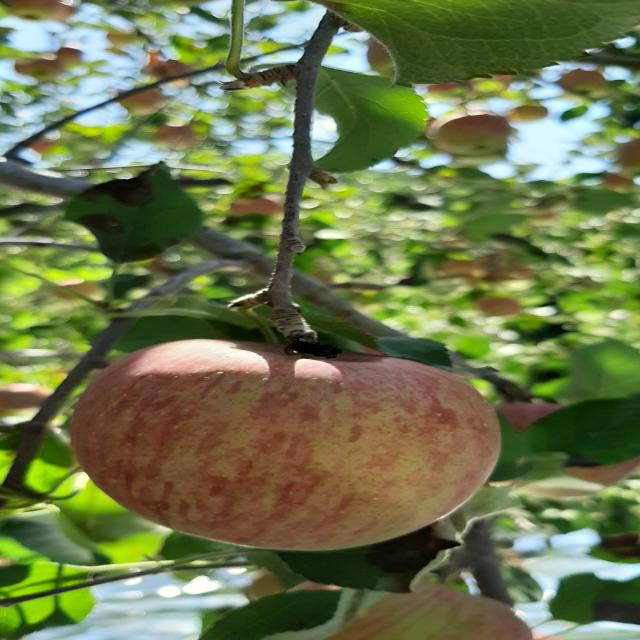fresh: (53, 327, 524, 559)
